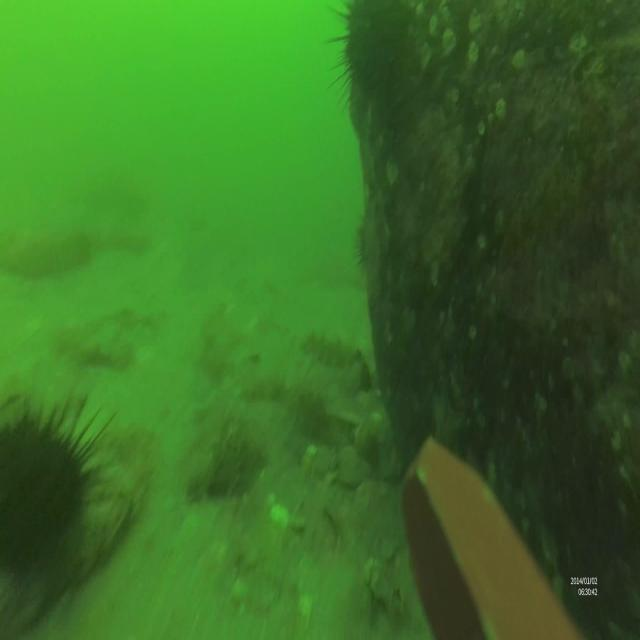echinus: (0, 392, 120, 568), (322, 0, 413, 124), (353, 220, 369, 274)
holothurian: (302, 325, 372, 378)
